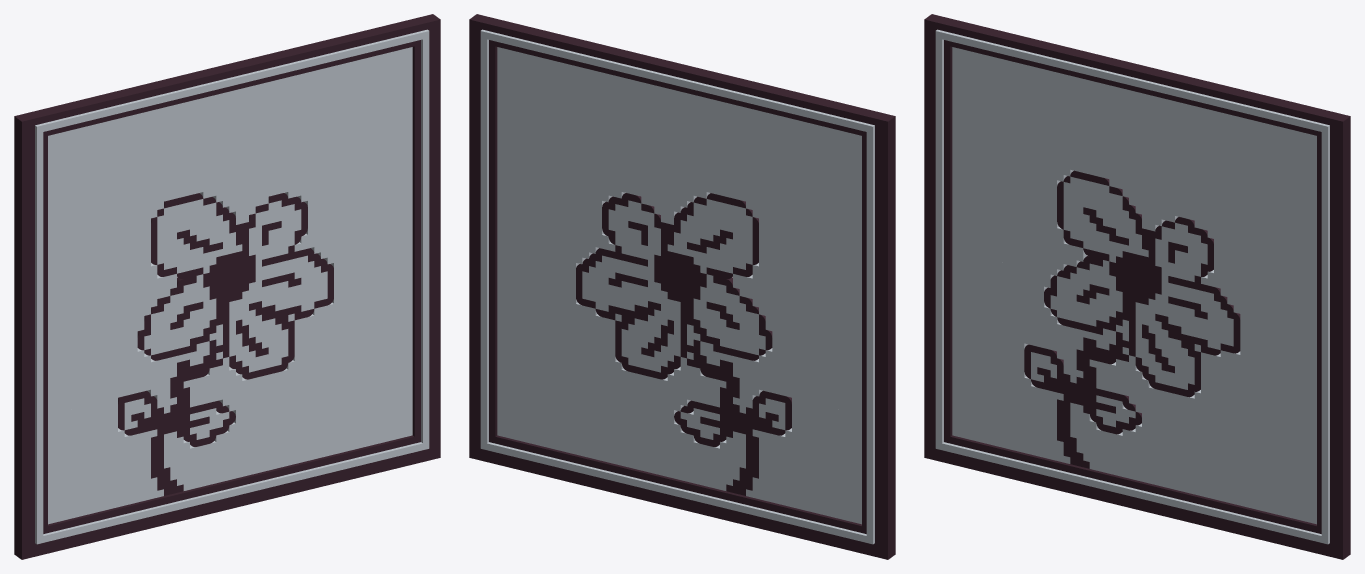
The model's file is Flower Painting.fbx.
The picture shows the model from 3 angles, left to right: view 1: azimuth 30°, elevation 25°; view 2: azimuth 150°, elevation 25°; view 3: azimuth 330°, elevation 25°; orthographic projection.
Visible parts, largest first — view 1: generated; view 2: generated; view 3: generated.
Boxes of the visible parts, box(x1,y1,x2,y2) form: generated: box(14, 14, 440, 559); generated: box(469, 14, 895, 559); generated: box(924, 14, 1350, 559).
Size of the model in its own units: 2560 by 2560 by 120.
